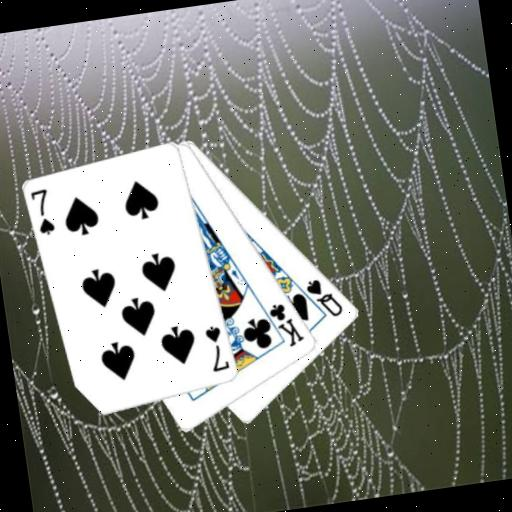7S: (27, 186, 58, 239), (202, 322, 232, 375)
KC: (258, 297, 308, 353)
QS: (302, 273, 346, 323)
